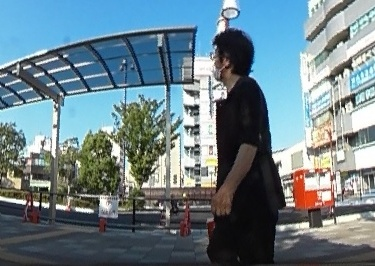person: (205, 24, 280, 263)
